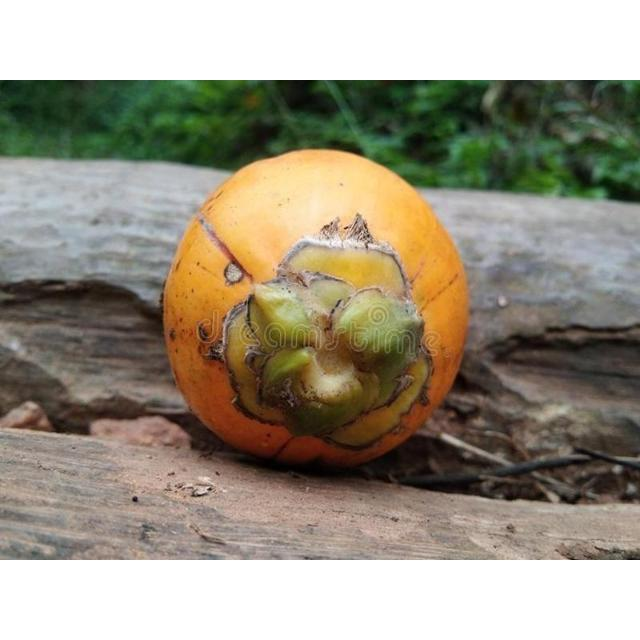good: (162, 150, 471, 474)
